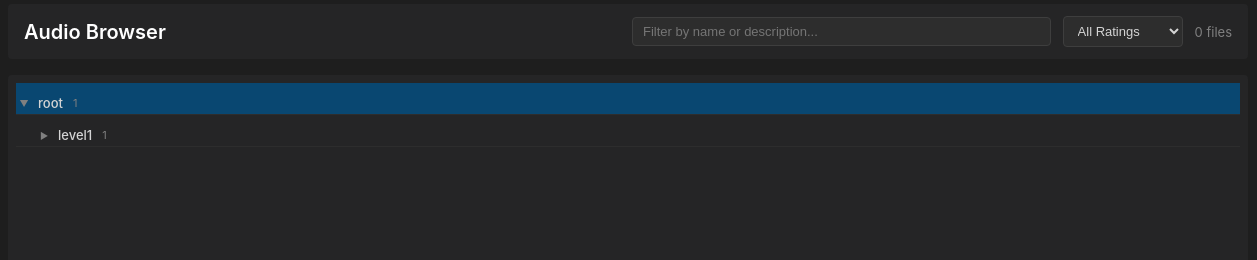
Test: AudioBrowser › auto-expands all parent folders of matching files
The image size is (1257, 260).
Expected: the text "root" is shown, [38,96,63,110]
# Filter for the deeply nested file
Type "deep" into the field with placeholder "Filter by name or description...". click: (841, 32)
box: [632,17,1051,46]
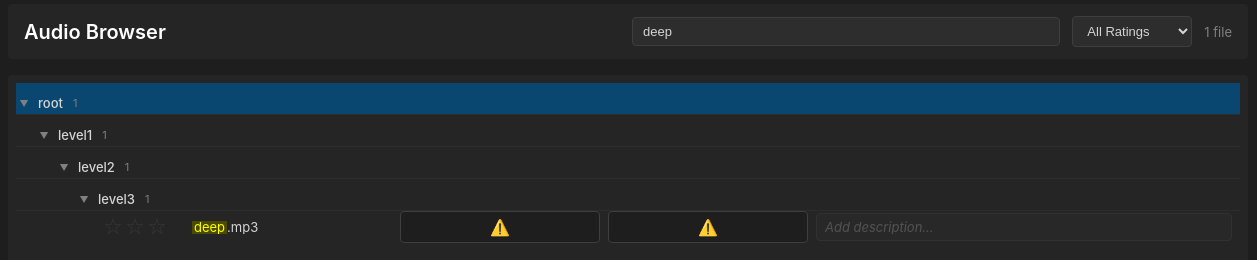
Expected: the text "level1" is shown, [58,126,92,142]
Now the text "level2" is shown, box [78,158,115,174]
Now the text "level3" is shown, box [98,190,135,206]
